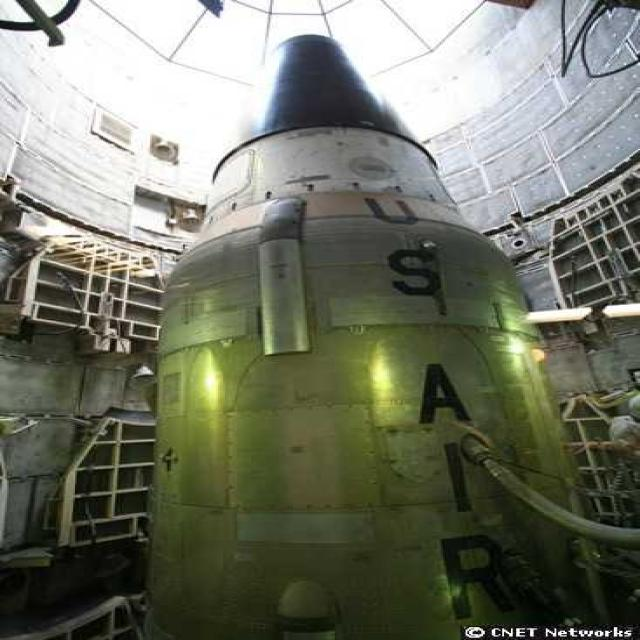missile: (160, 31, 592, 640)
